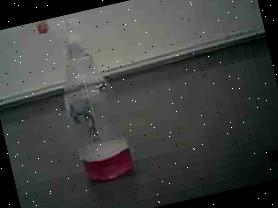hazard: (26, 3, 153, 197)
